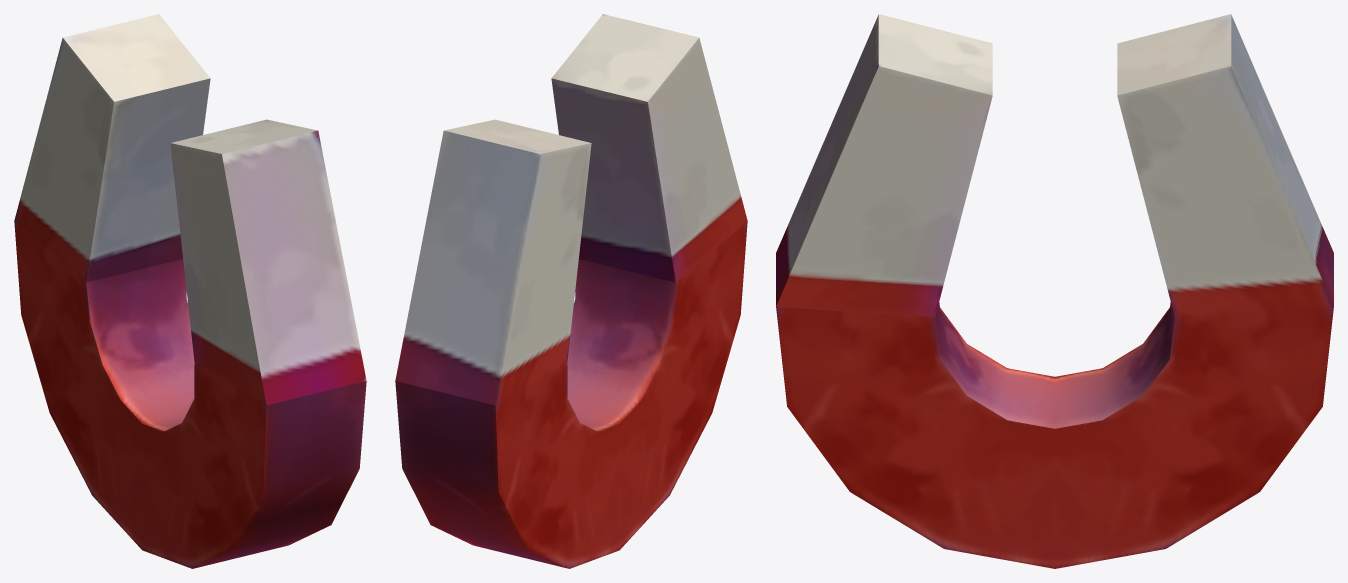
Rendered from scenes_common_magnet01.FBX.
The picture shows the model from 3 angles, left to right: view 1: azimuth 30°, elevation 25°; view 2: azimuth 150°, elevation 25°; view 3: azimuth 270°, elevation 25°; orthographic projection. The views are drawn at different scales.
Parts seen in each view (by area): view 1: scenes_common_magnet01; view 2: scenes_common_magnet01; view 3: scenes_common_magnet01.
Boxes of the visible parts, x1,y1,x2,y2 form: scenes_common_magnet01: (14,14,366,568); scenes_common_magnet01: (395,14,747,568); scenes_common_magnet01: (776,14,1333,568).
Bounding box in the file's own units: 10.75 × 46.57 × 46.82.
